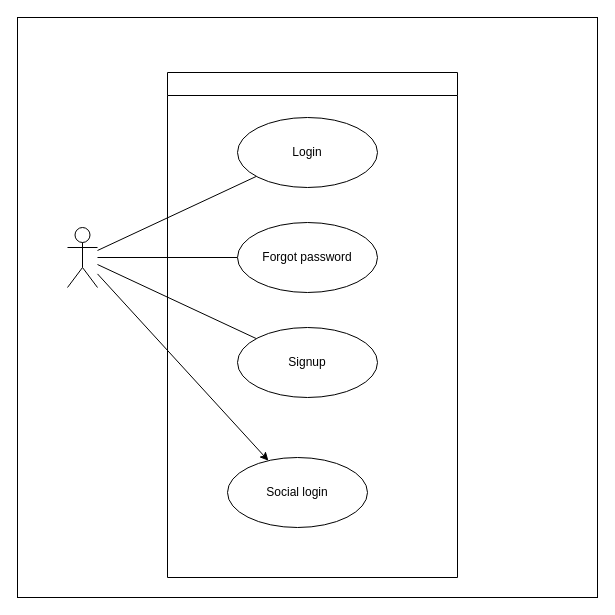
Image size: 615x615. Some labels were removed from this diagram. Each missing label, with the box of its shape:
Login Use Case: (166, 72, 458, 578)
User: (66, 226, 98, 288)
